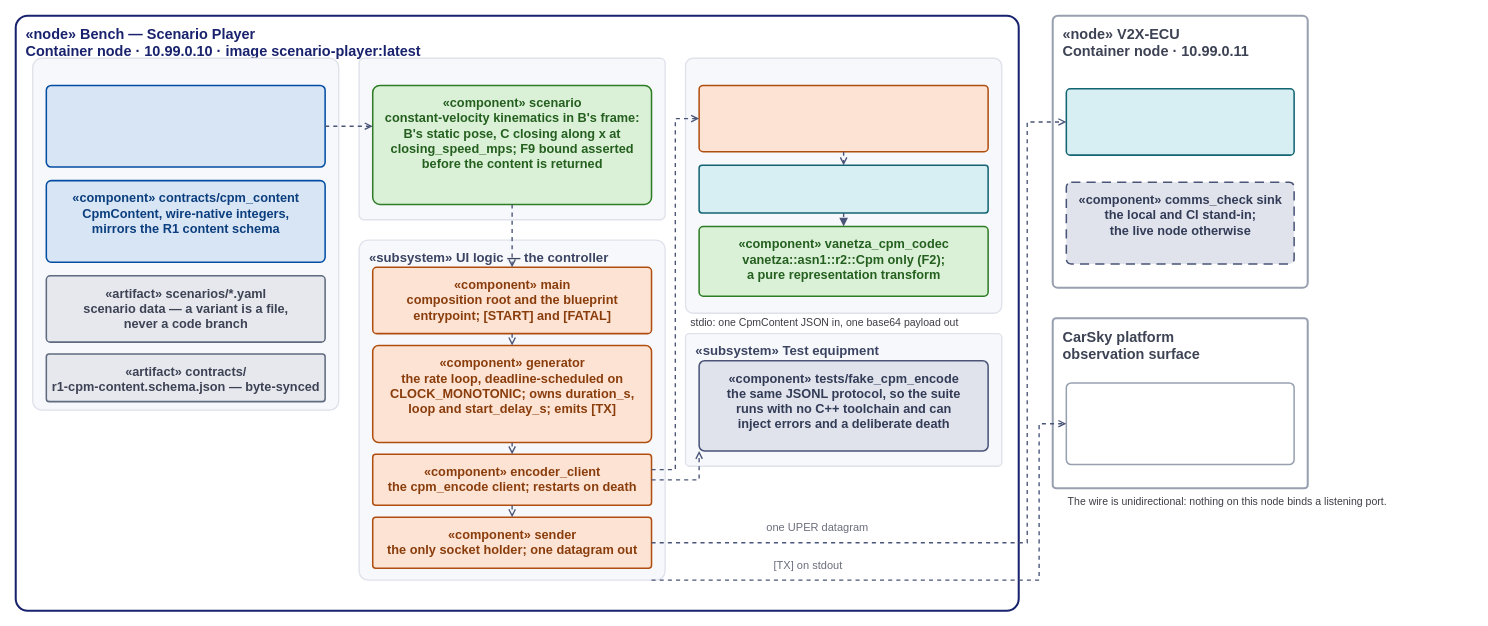
Some shapes in this 1488 by 626 pixel diagram are drawn without their labels. Each missing label, with the box of its shape:
«component» config the only env and YAML reader; validates, then stops: (45, 84, 325, 167)
«component» main --stream JSONL loop · --encode one-shot: (698, 84, 988, 152)
«component» View Log the node's only observation surface: the [TX] JSONL stream: (1065, 382, 1294, 465)
«interface» ICpmCodec encode(CpmContent) → UPER octets: (698, 164, 988, 213)
«interface» V2X-ECU UPER CPM datagram → :47100 one message per datagram (F5): (1065, 88, 1294, 155)
«subsystem» Business logic: (358, 57, 665, 220)
«subsystem» cpm_encode — C++17 helper: (684, 57, 1002, 313)
«subsystem» Data: (32, 57, 339, 410)
